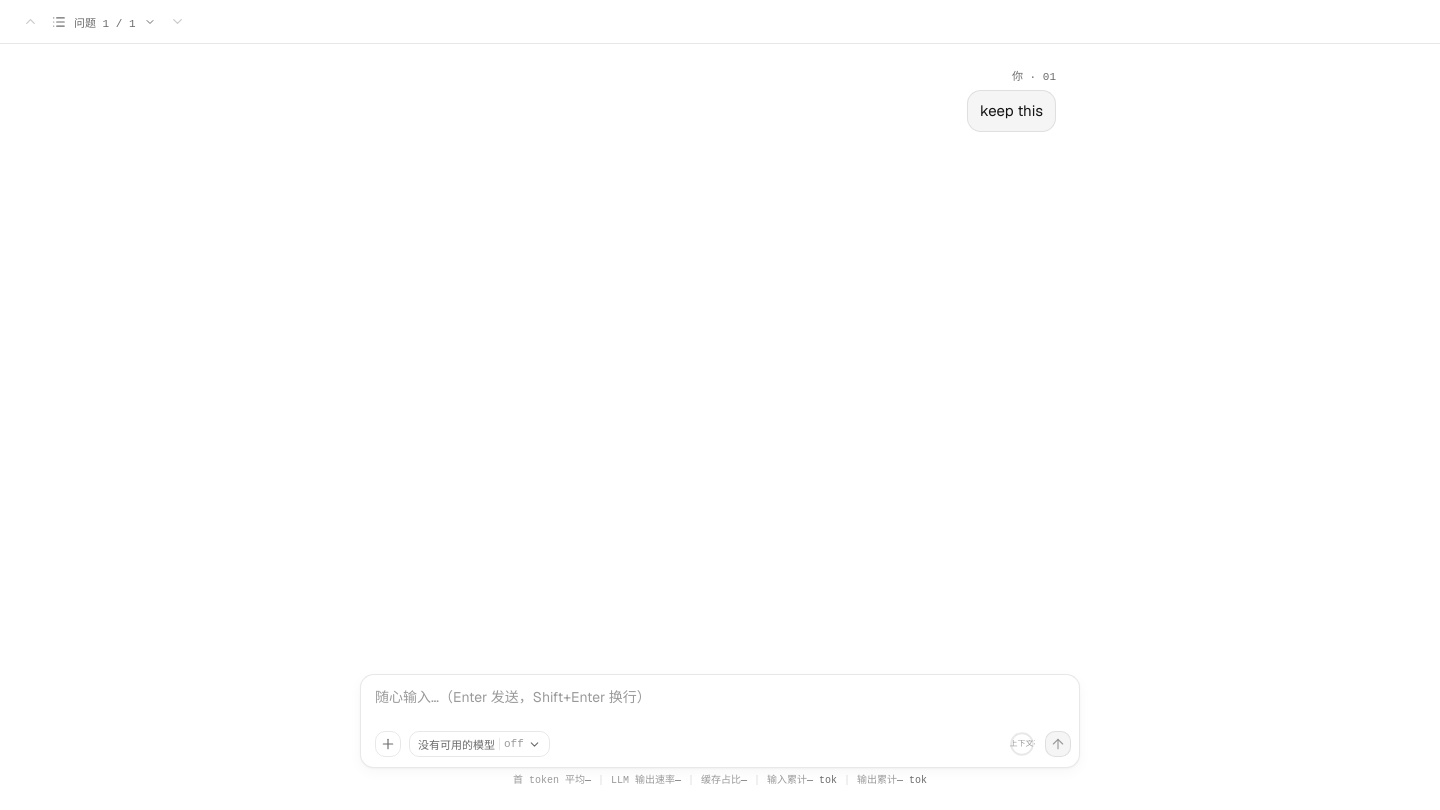
Test: ChatView turn and approval controls › keeps the conversation and reports an error when slash clear cannot reset the node
This screenshot has width=1440, height=810.
Type "/clear" into the dropdown with placeholder "随心输入…（Enter 发送，Shift+Enter 换行）" at (723, 704), box left=375, top=683, right=1071, bottom=725
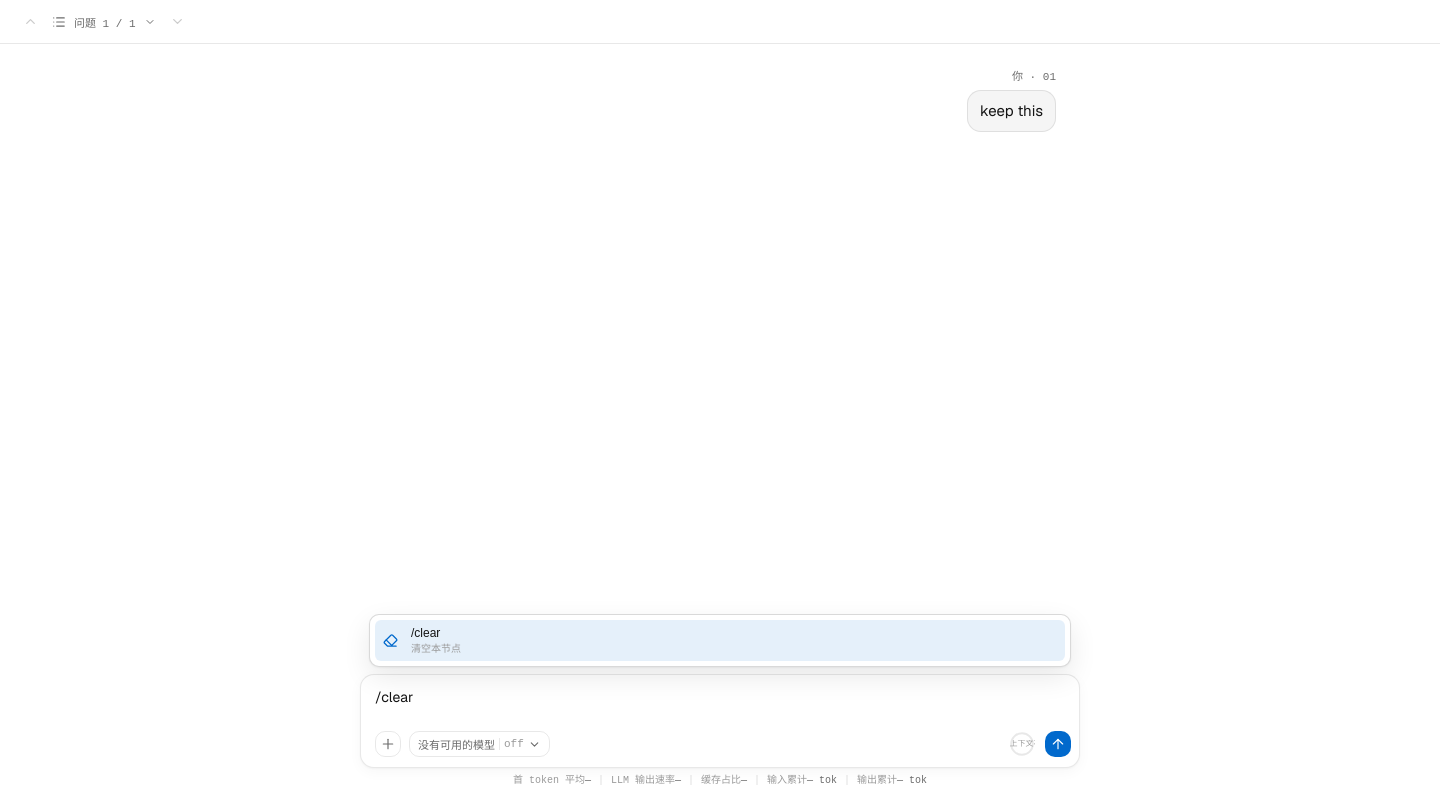
Press Enter in the dropdown with placeholder "随心输入…（Enter 发送，Shift+Enter 换行）", box left=375, top=683, right=1071, bottom=725
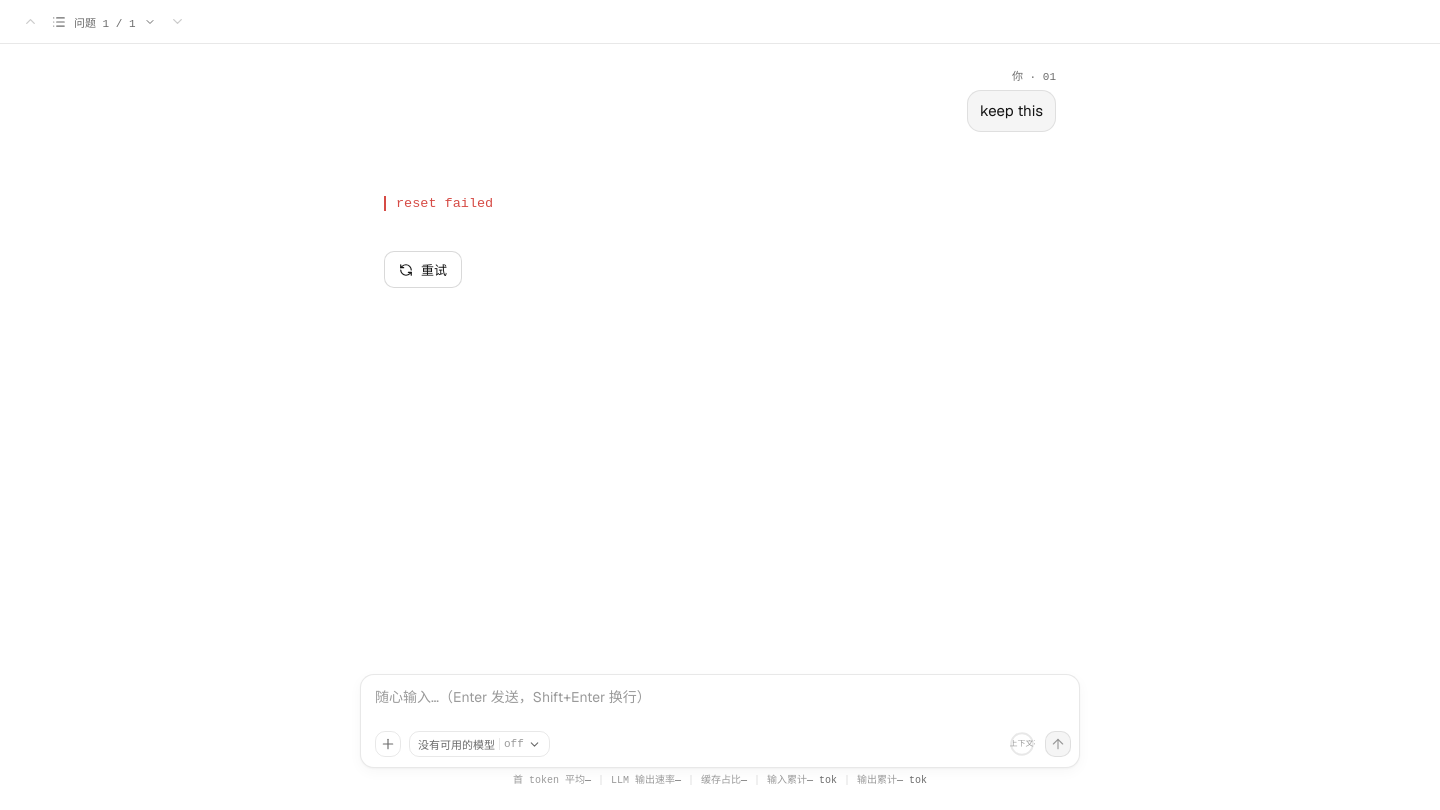
Expected: the text "keep this" is shown, left=980, top=98, right=1043, bottom=123
Result: the text "reset failed" is shown at left=384, top=196, right=1056, bottom=211
